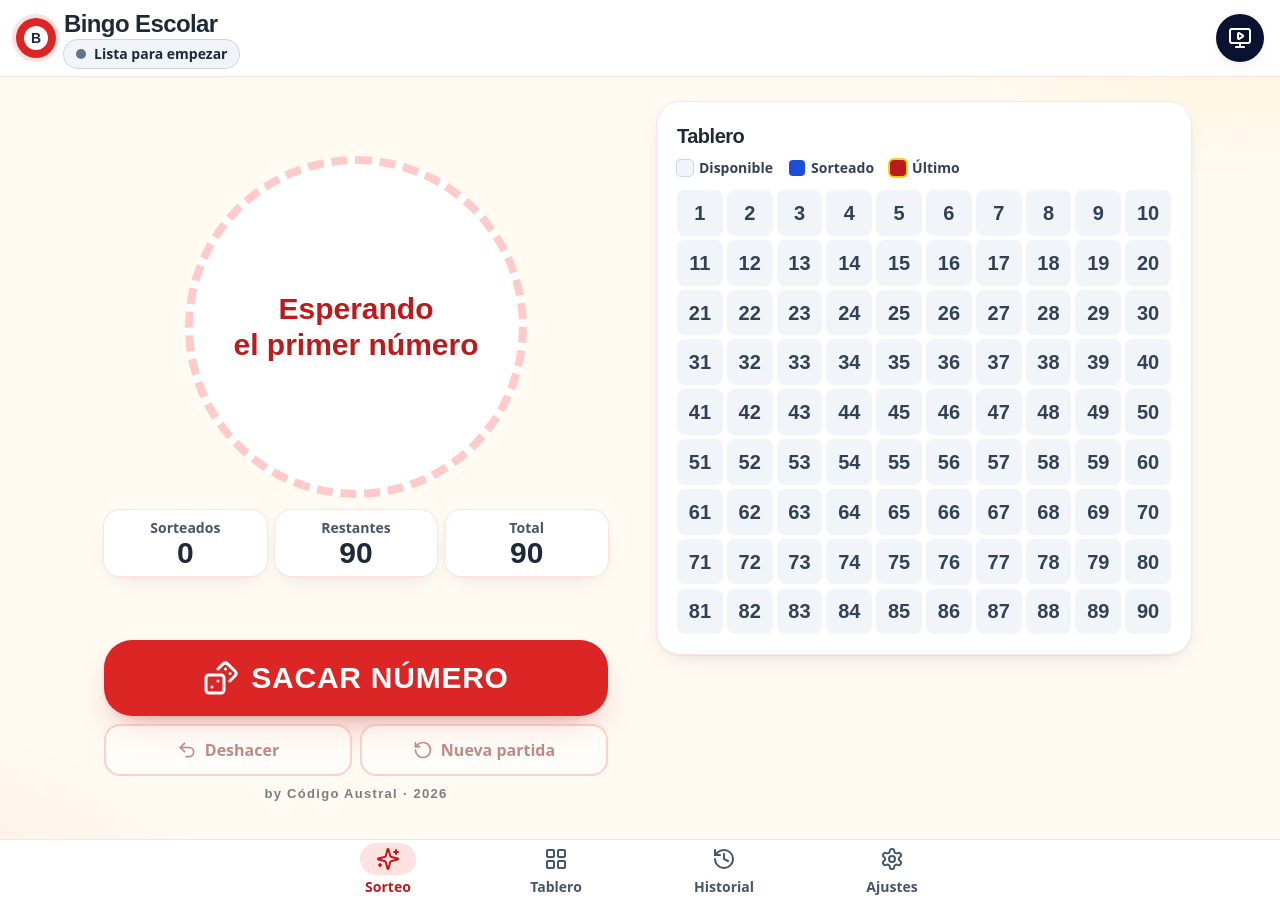
App: flujo principal › Escape cancela una confirmación
Step 1. Click the button "Sacar número" → point(356, 678), box [104,640,608,716]
Wait 800 ms
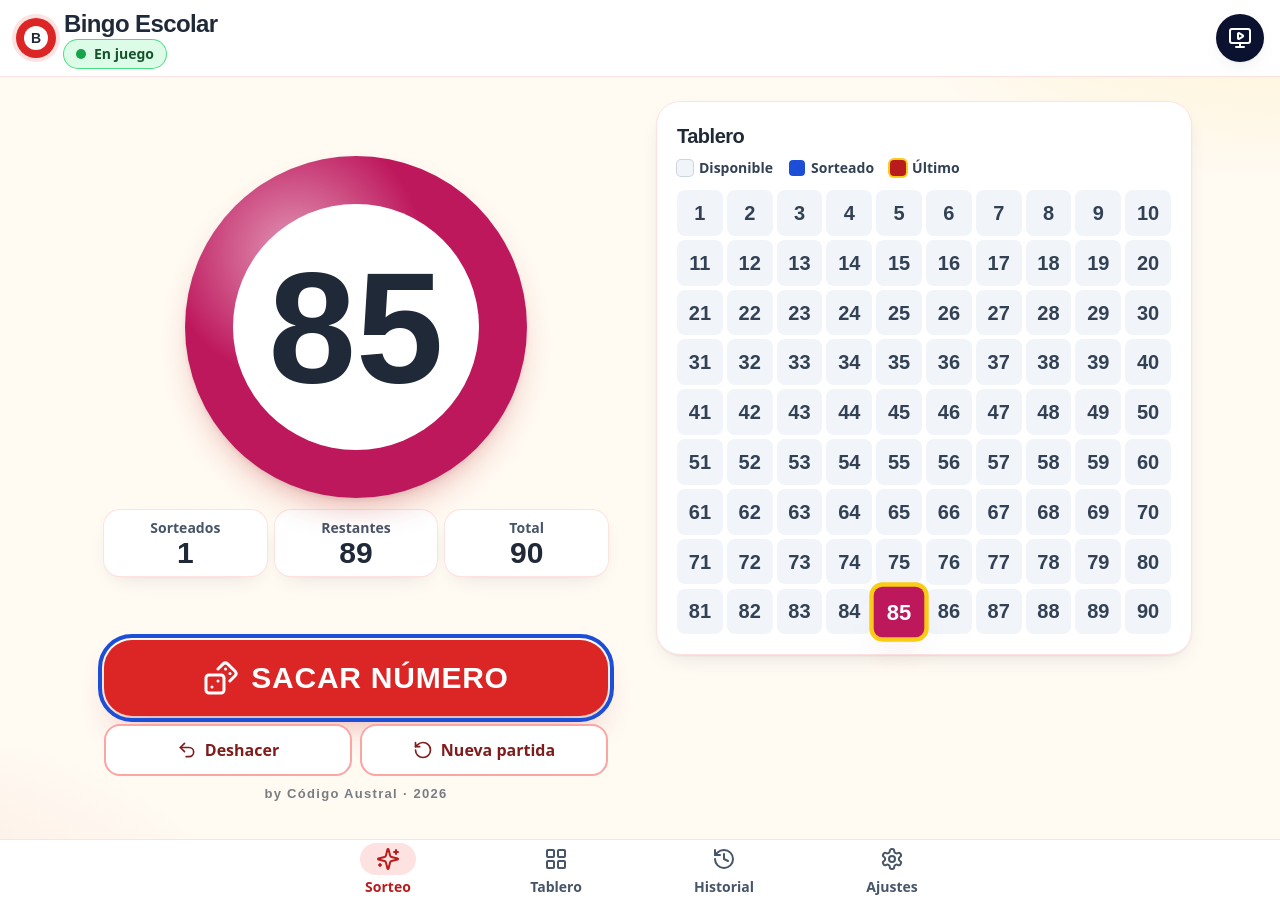
Step 2. Click the button "Deshacer" → point(228, 750), box [104,724,352,776]
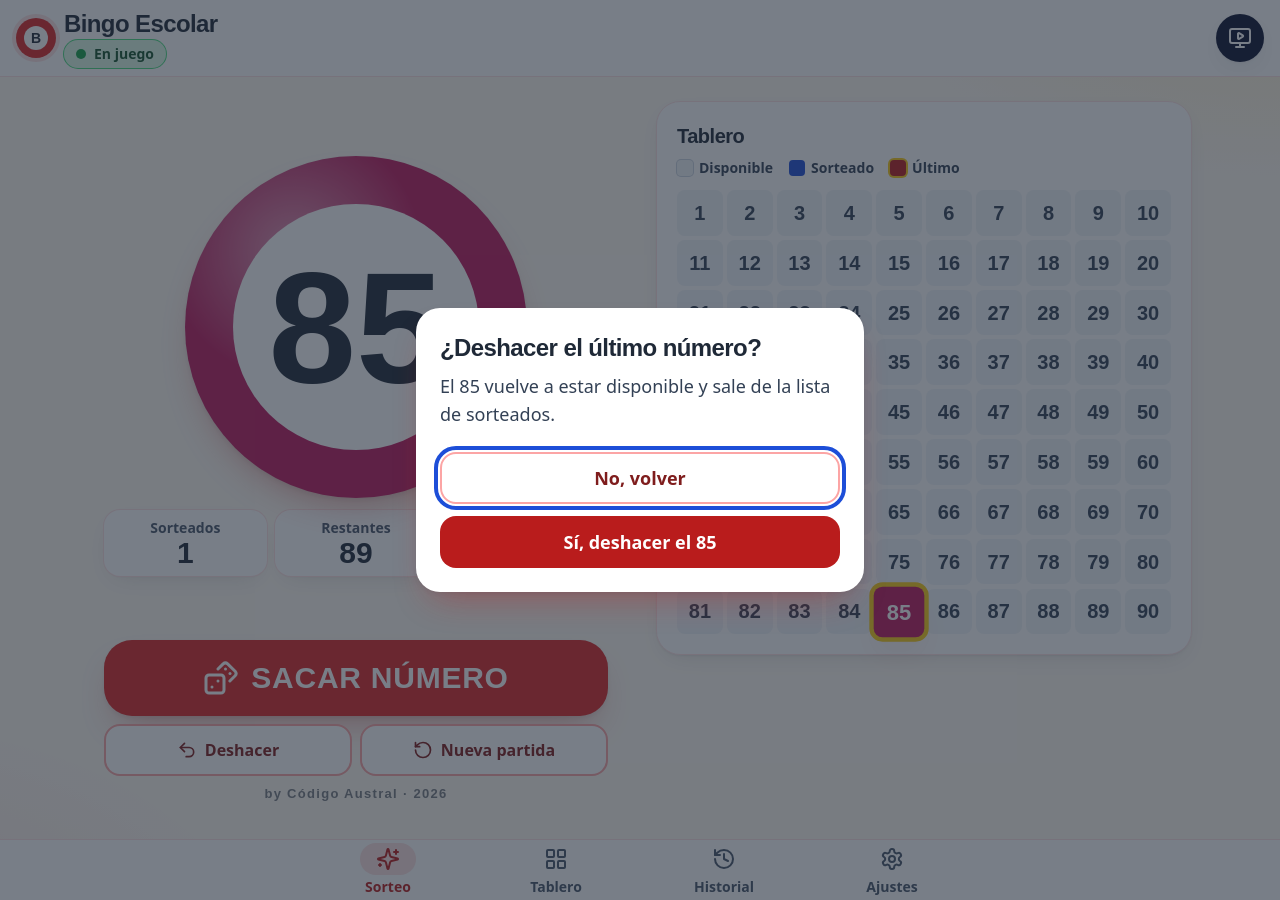
Check: the dialog is shown, box [416,308,864,592]
Step 3. Press Escape
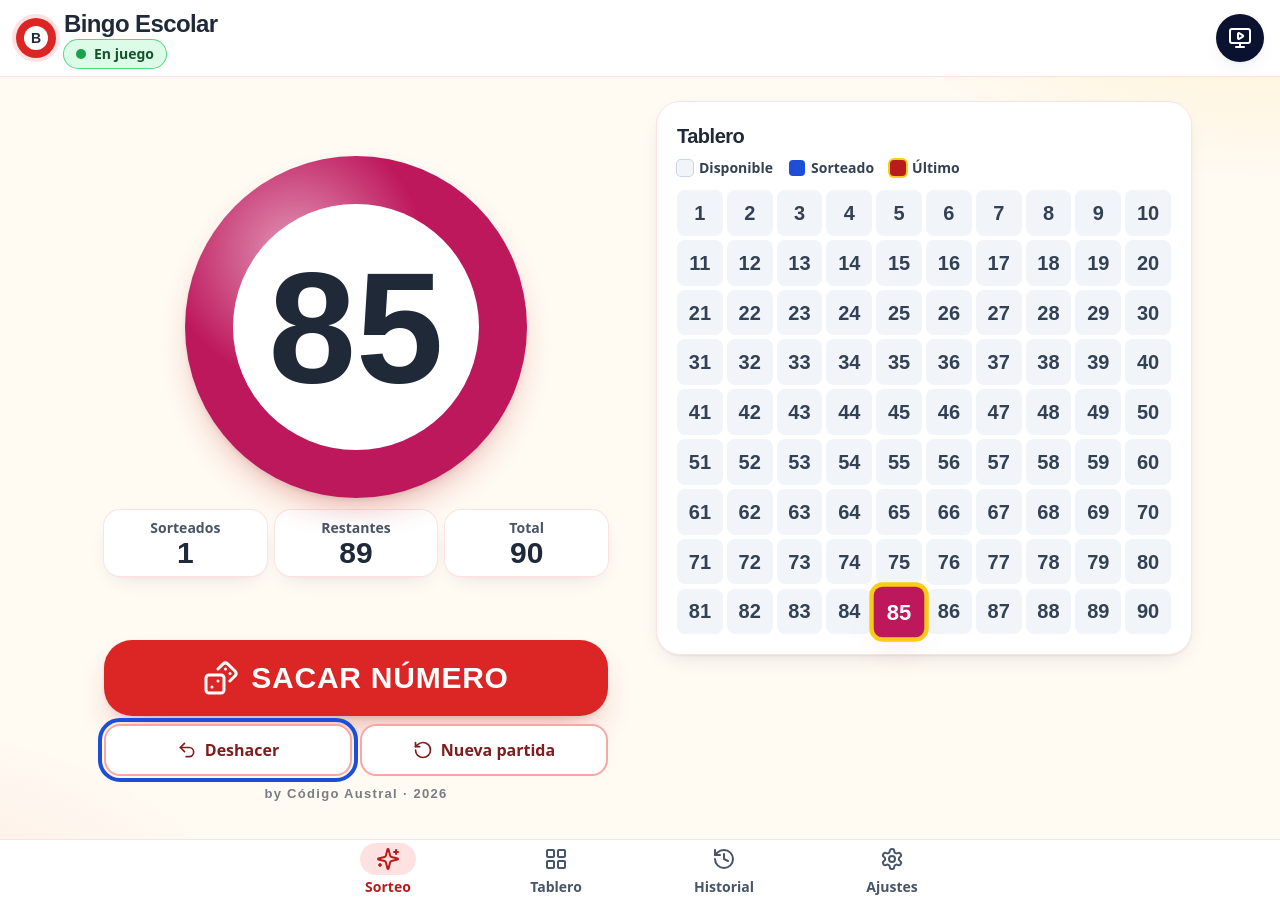
Check: the dialog is gone
